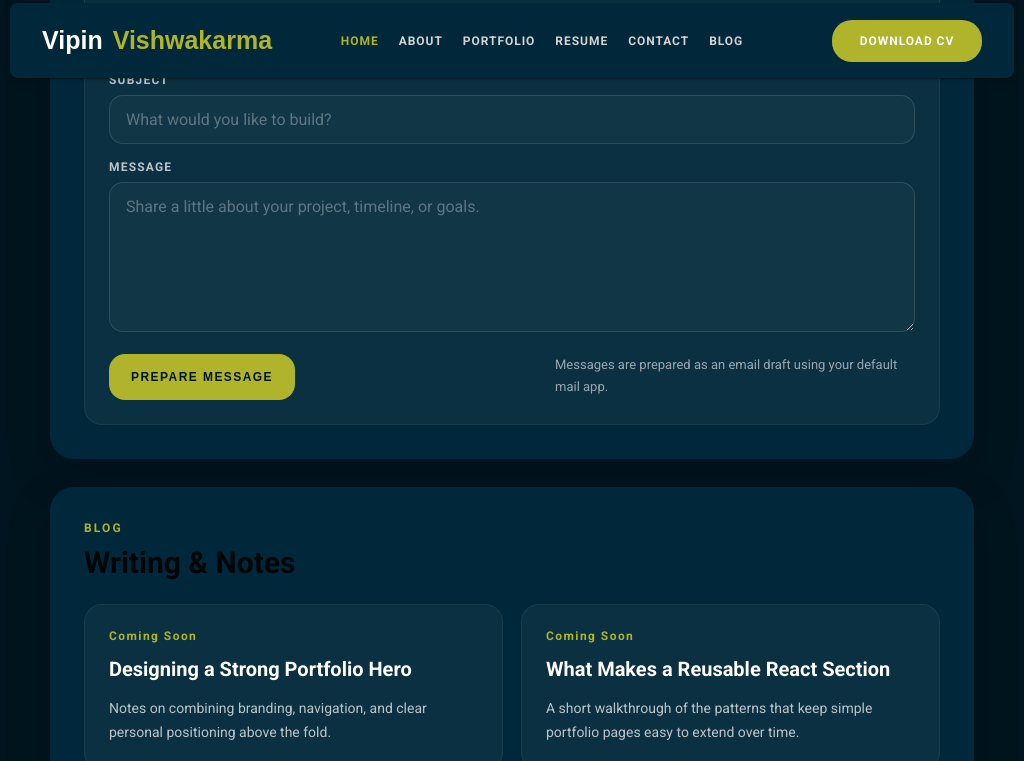
Test: shows validation feedback on an incomplete contact form
(page scrolled)
Click the button "PREPARE MESSAGE" at x=202, y=377, box [109,354,295,400]
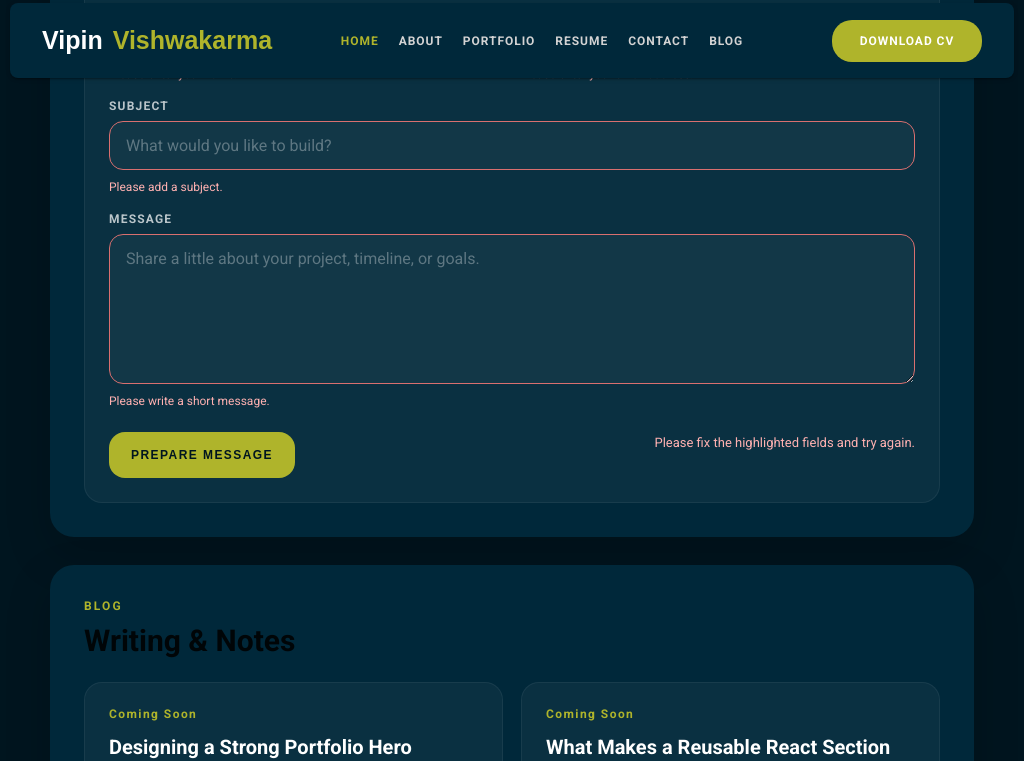
Expected: the text "Please enter your email address." is shown, [520,67,694,81]
Expected: the text "Please enter your name." is shown, [109,67,238,81]
Expected: the text "Please add a subject." is shown, [109,180,223,194]
